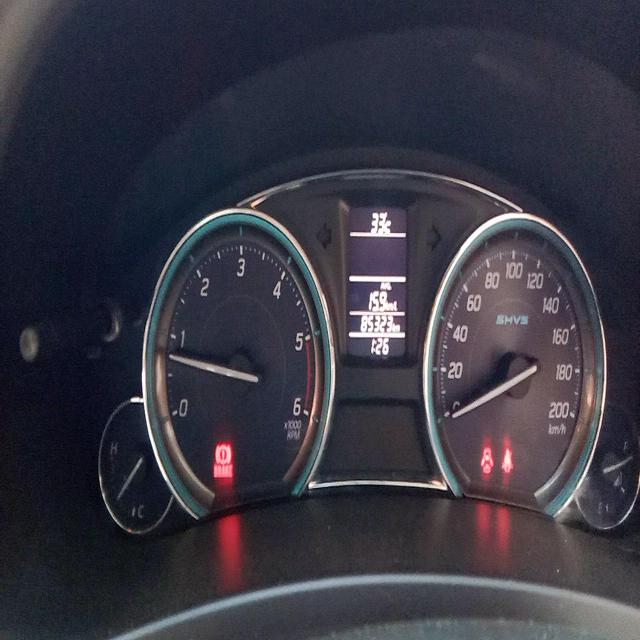odometer: (358, 313, 394, 334)
